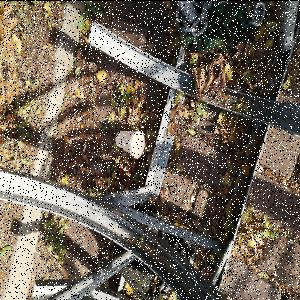Cup: (114, 128, 148, 161)
